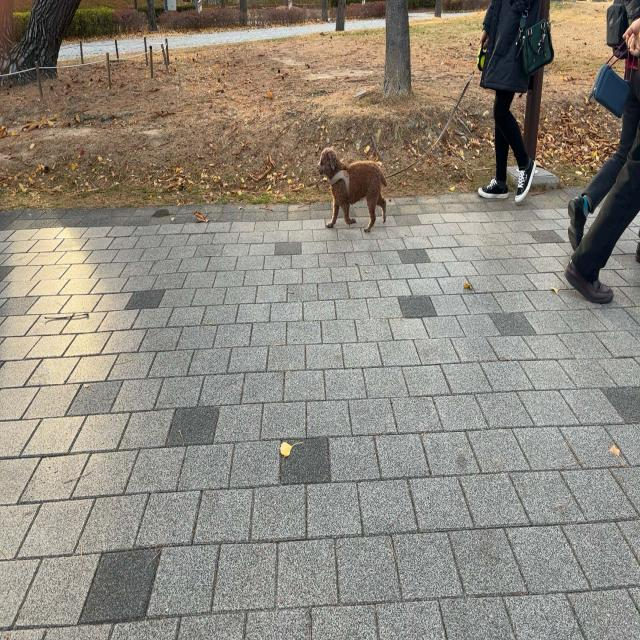Leashed_Dog: (317, 30, 507, 234)
